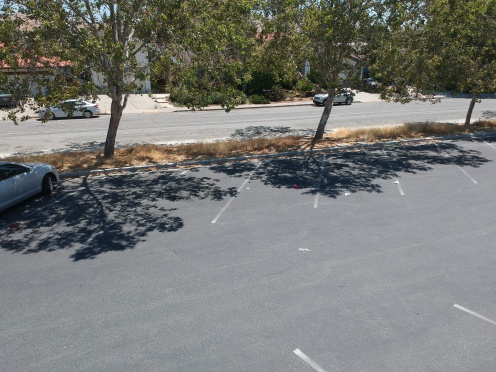plastic bag: (292, 182, 299, 188)
